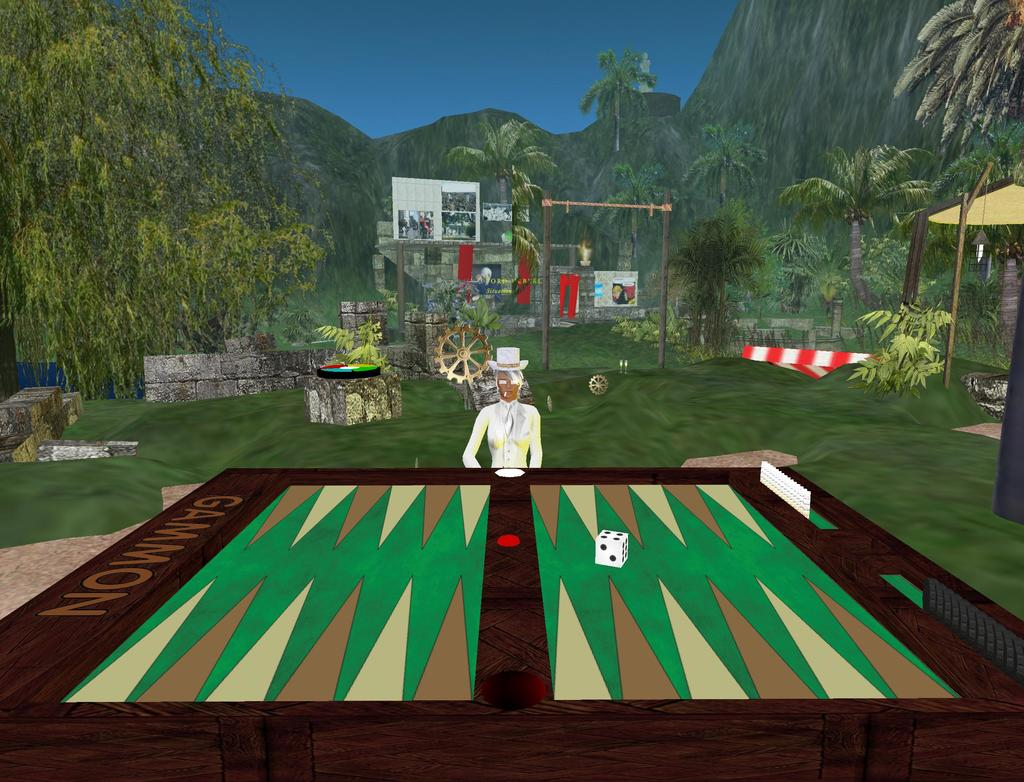Tree: (0, 0, 334, 400), (895, 0, 1024, 360), (789, 147, 938, 314), (441, 119, 561, 298), (666, 204, 765, 353), (687, 125, 771, 286), (592, 165, 677, 269), (584, 49, 655, 153)
